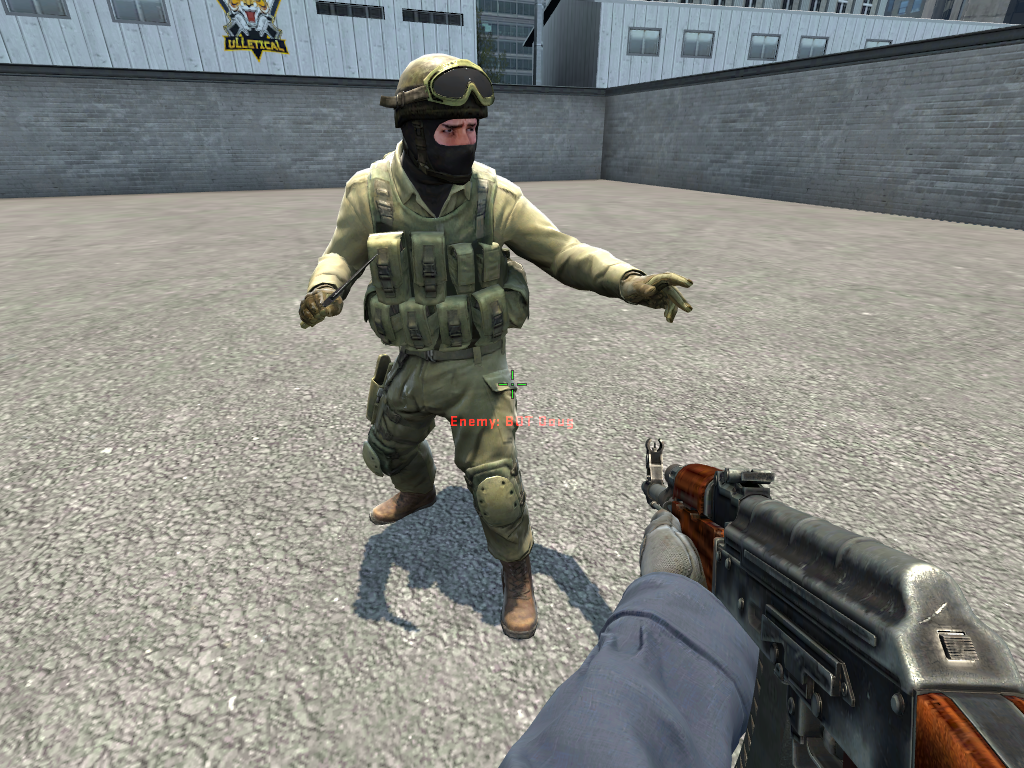ct head: (378, 49, 498, 186)
